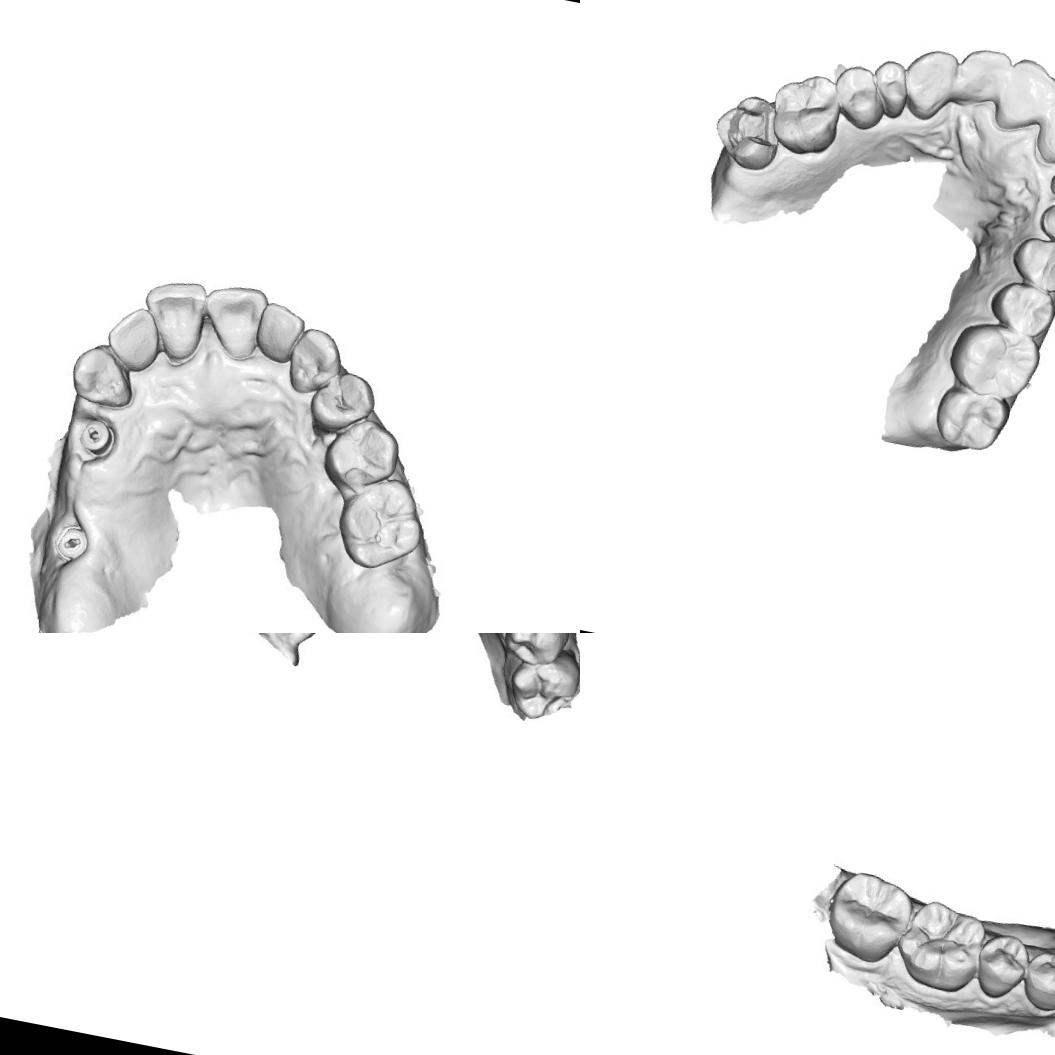canine: (895, 42, 962, 128), (65, 338, 139, 413), (282, 323, 347, 399), (1032, 188, 1055, 255)
implant_minus: (48, 518, 95, 567), (74, 414, 119, 460)
incisor: (134, 272, 212, 364), (194, 278, 273, 364), (991, 54, 1055, 140), (100, 302, 164, 376), (951, 42, 1012, 109), (250, 300, 307, 368), (1032, 86, 1055, 171)
molar: (330, 468, 435, 578), (889, 892, 990, 999), (820, 864, 918, 968), (943, 312, 1046, 406), (762, 64, 849, 162), (316, 411, 406, 499), (706, 86, 788, 175), (503, 639, 580, 728), (928, 382, 1014, 456)
premolar: (305, 364, 380, 438), (968, 927, 1034, 1004), (826, 59, 892, 134), (983, 276, 1055, 341), (865, 53, 914, 121), (1005, 232, 1055, 296), (1015, 943, 1055, 1019), (496, 633, 575, 671), (247, 633, 341, 654)
